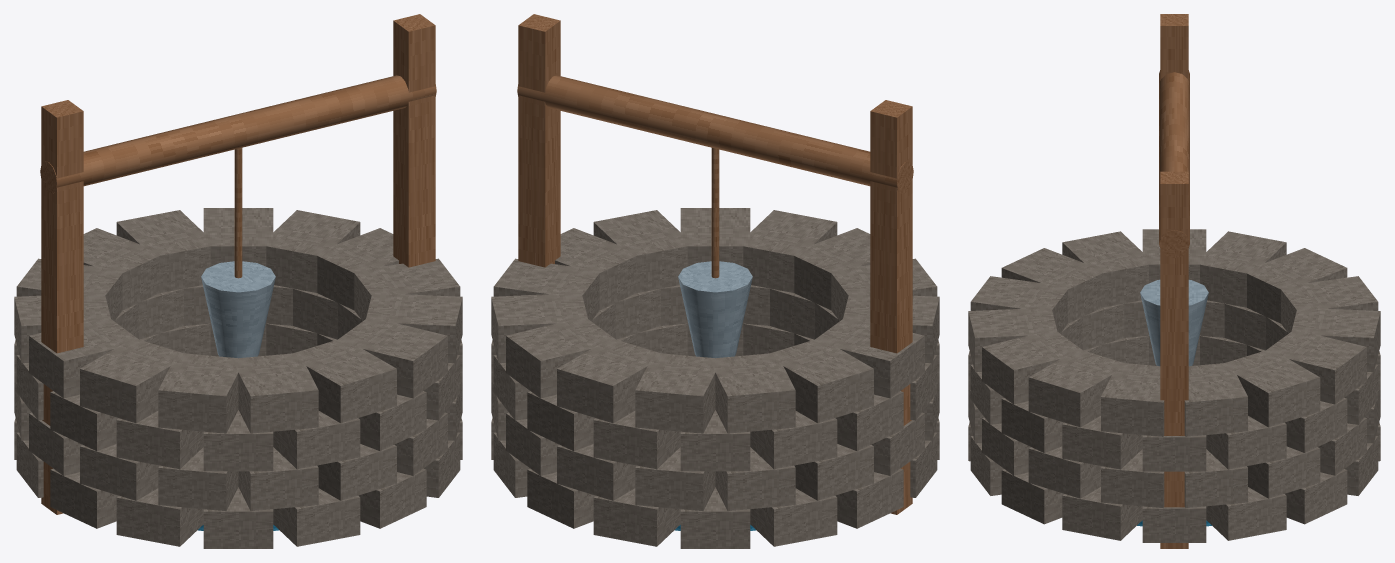
File: stone-well.glb
3 renders of one model, left to right at view 1: azimuth 30°, elevation 25°; view 2: azimuth 150°, elevation 25°; view 3: azimuth 270°, elevation 25°, orthographic. The views are drawn at different scales.
Visible parts, largest first — view 1: stone course (×43), wood support (×2), spindle, bucket, rope; view 2: stone course (×43), wood support (×2), spindle, bucket, rope; view 3: stone course (×41), wood support (×2), spindle, bucket.
Boxes of the visible parts, x1,y1,x2,y2 form: stone course (×43): (14,208,462,548); wood support (×2): (41,14,435,514); spindle: (40,75,436,193); bucket: (201,261,275,358); rope: (234,148,242,278); stone course (×43): (491,208,939,548); wood support (×2): (518,14,912,514); spindle: (517,75,913,193); bucket: (678,261,752,358); rope: (711,148,719,278); stone course (×41): (968,229,1380,542); wood support (×2): (1160,14,1188,548); spindle: (1159,70,1189,257); bucket: (1140,279,1208,366).
Size of the model in its own units: 1.68 by 1.68 by 1.68.
5 materials, 5 textured.
